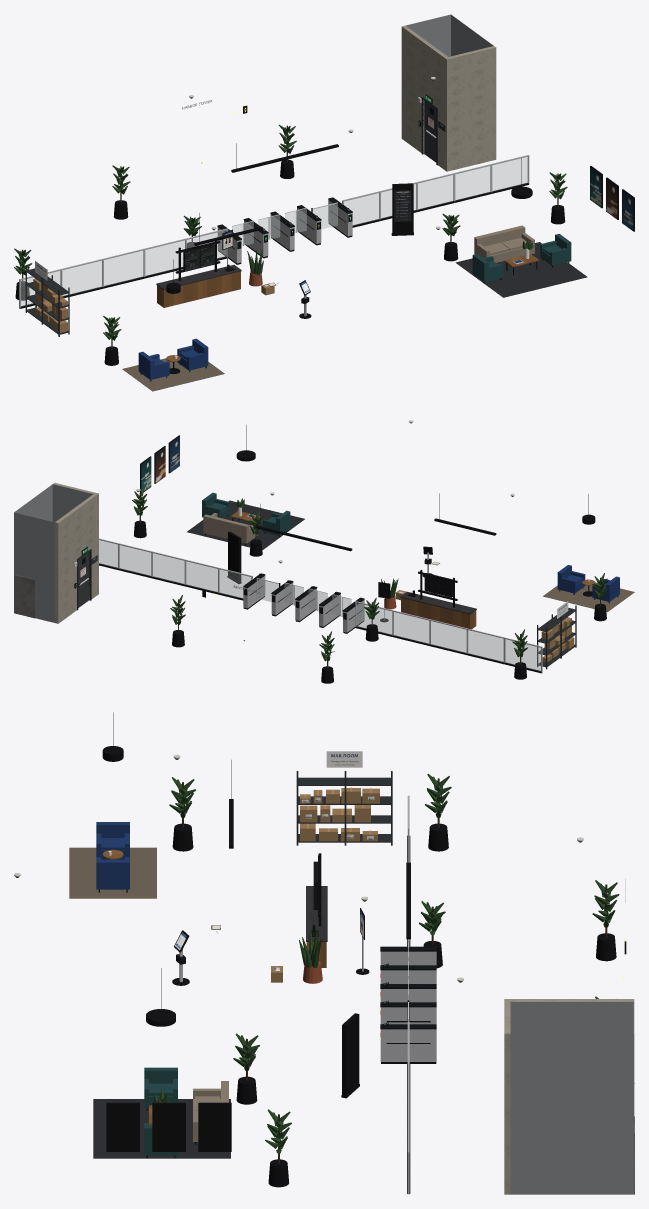
File: harbor_lobby_detail.glb
3 renders of one model, top to bottom at view 1: azimuth 30°, elevation 25°; view 2: azimuth 150°, elevation 25°; view 3: azimuth 270°, elevation 25°, orthographic. The views are drawn at different scales.
Parts seen in each view (by area): view 1: Stair_Core, Lobby_Seating, Gate_Balustrade_East, Gate_Balustrade_West, Lobby_Plants, SpeedGate_Bank, Security_Monitor_Bank, Mailroom_Shelf, Lobby_Art_Panels, Directory_Sign, Stair_Door, Directory_Sign_Face (+1 smaller); view 2: Stair_Core, Lobby_Seating, Gate_Balustrade_West, Gate_Balustrade_East, Lobby_Plants, SpeedGate_Bank, Security_Monitor_Bank, Mailroom_Shelf, Lobby_Art_Panels, Directory_Sign, Stair_Door, Turnstile_L4_ADA_Gate (+1 smaller); view 3: Stair_Core, Lobby_Seating, Lobby_Plants, SpeedGate_Bank, Mailroom_Shelf, Lobby_Art, Security_Monitor_Bank, Directory_Sign, Seating_Pendant_Light, Mailroom_Shelf_Labels.
Part boxes in pixels (<box>): Stair_Core: <box>401,14,496,171</box>; Lobby_Seating: <box>122,225,587,391</box>; Gate_Balustrade_East: <box>342,155,529,227</box>; Gate_Balustrade_West: <box>19,228,228,308</box>; Lobby_Plants: <box>14,124,567,365</box>; SpeedGate_Bank: <box>217,197,352,264</box>; Security_Monitor_Bank: <box>156,241,241,307</box>; Mailroom_Shelf: <box>25,265,69,336</box>; Lobby_Art_Panels: <box>590,167,633,230</box>; Directory_Sign: <box>391,183,413,235</box>; Stair_Door: <box>424,101,436,162</box>; Directory_Sign_Face: <box>394,190,411,221</box>; Stair_Core: <box>14,482,98,623</box>; Lobby_Seating: <box>187,492,634,612</box>; Gate_Balustrade_West: <box>355,601,542,673</box>; Gate_Balustrade_East: <box>99,538,252,600</box>; Lobby_Plants: <box>132,488,607,683</box>; SpeedGate_Bank: <box>243,574,364,633</box>; Security_Monitor_Bank: <box>400,570,476,629</box>; Mailroom_Shelf: <box>537,605,576,669</box>; Lobby_Art_Panels: <box>141,436,179,491</box>; Directory_Sign: <box>227,531,241,583</box>; Stair_Door: <box>78,552,89,607</box>; Turnstile_L4_ADA_Gate: <box>256,578,280,601</box>; Stair_Core: <box>504,999,634,1194</box>; Lobby_Seating: <box>69,822,230,1158</box>; Lobby_Plants: <box>169,773,619,1187</box>; SpeedGate_Bank: <box>380,946,436,1063</box>; Mailroom_Shelf: <box>296,771,392,845</box>; Lobby_Art: <box>106,1102,231,1151</box>; Security_Monitor_Bank: <box>306,853,327,967</box>; Directory_Sign: <box>341,1013,359,1098</box>; Seating_Pendant_Light: <box>102,712,175,1026</box>; Mailroom_Shelf_Labels: <box>302,751,374,839</box>.
Bounding box in the file's own units: 21.19 × 4.45 × 15.55.
Materials: 55 (20 with a texture image).
